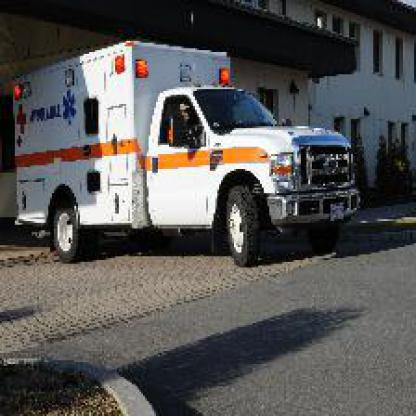emergency: (16, 51, 367, 262)
